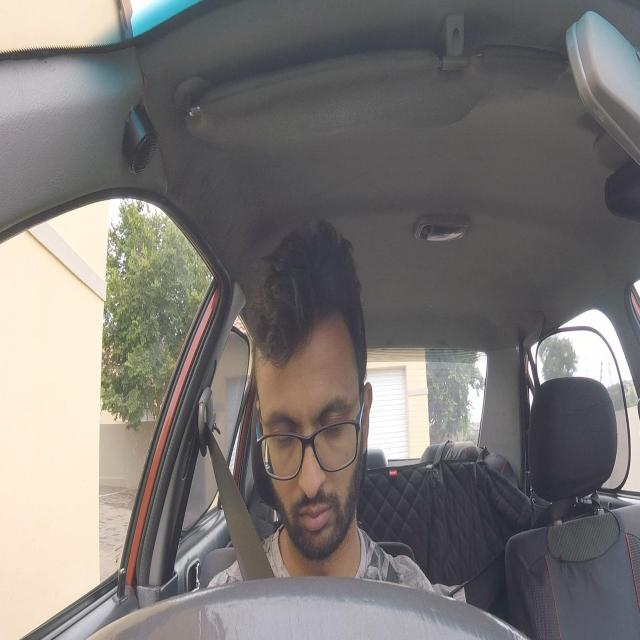close: (314, 393, 352, 445), (266, 406, 302, 453)
